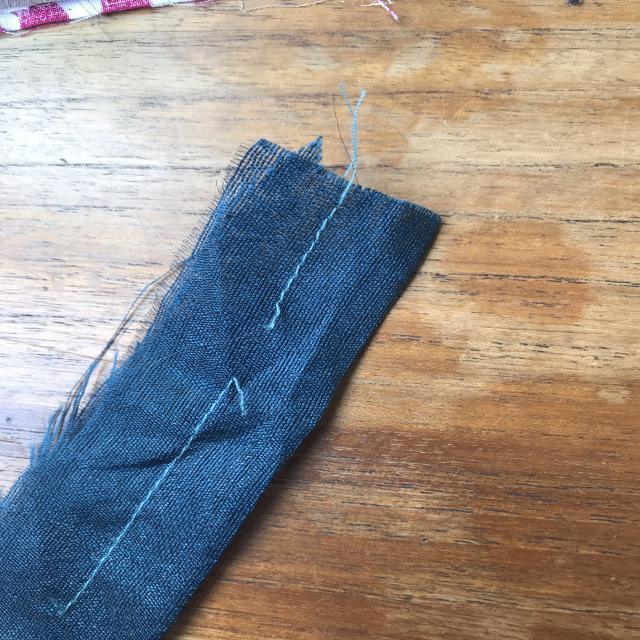broken: (209, 278, 294, 423)
